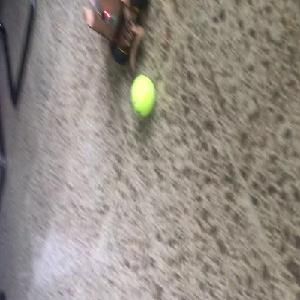Ball: (130, 75, 155, 117)
Robot: (82, 1, 154, 70)
